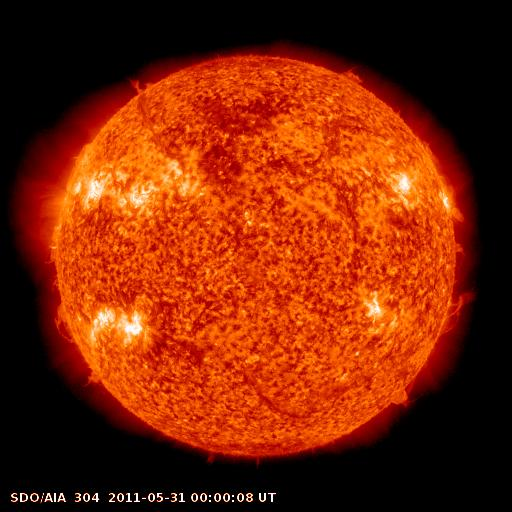prominence: (426, 284, 478, 343), (123, 65, 164, 106), (385, 376, 425, 417), (50, 301, 83, 348), (433, 193, 474, 227), (73, 363, 111, 398), (444, 231, 482, 265), (341, 61, 370, 92)
